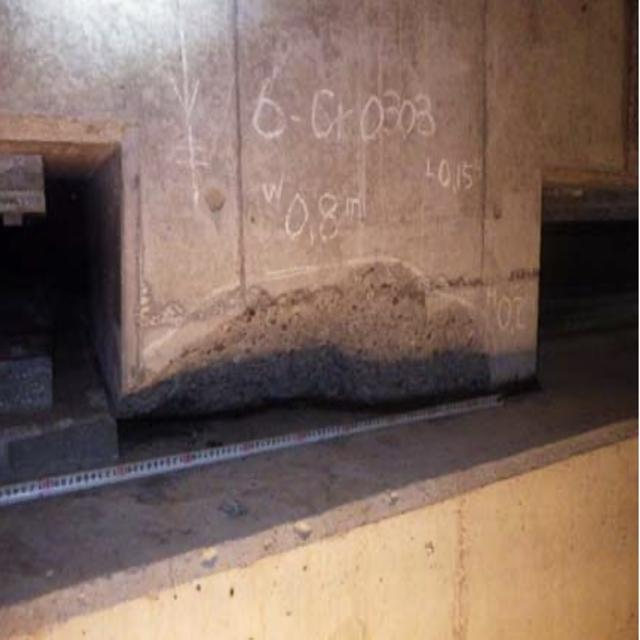spalling: (117, 260, 507, 424)
